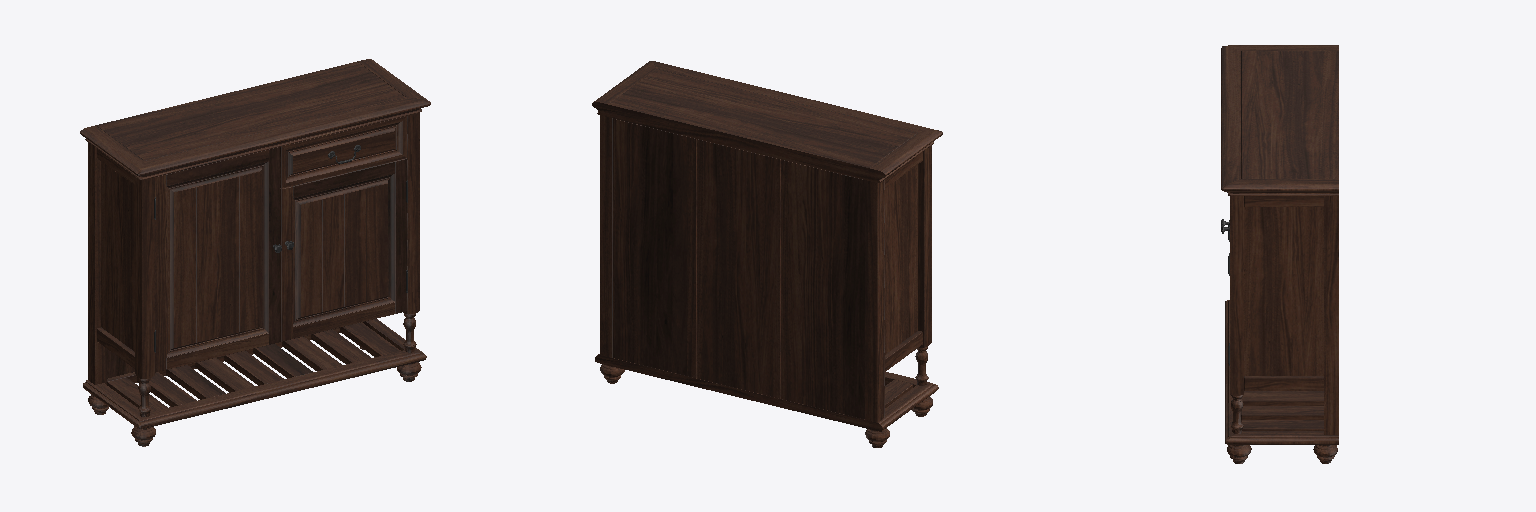
The picture shows the model from 3 angles: view 1: azimuth 30°, elevation 25°; view 2: azimuth 150°, elevation 25°; view 3: azimuth 270°, elevation 25°; orthographic projection.
Parts seen in each view (by area): view 1: solid_002, solid_003; view 2: solid_002, solid_003; view 3: solid_002, solid_003.
Part boxes in pixels (left/top/right/bottom): solid_002: left=83, top=61, right=430, bottom=446; solid_003: left=80, top=59, right=430, bottom=423; solid_002: left=592, top=61, right=941, bottom=447; solid_003: left=593, top=61, right=942, bottom=428; solid_002: left=1221, top=46, right=1338, bottom=463; solid_003: left=1223, top=45, right=1338, bottom=444.
Bounding box in the file's own units: 1.1 × 1.01 × 0.381.
Materials: 1 (1 with a texture image).